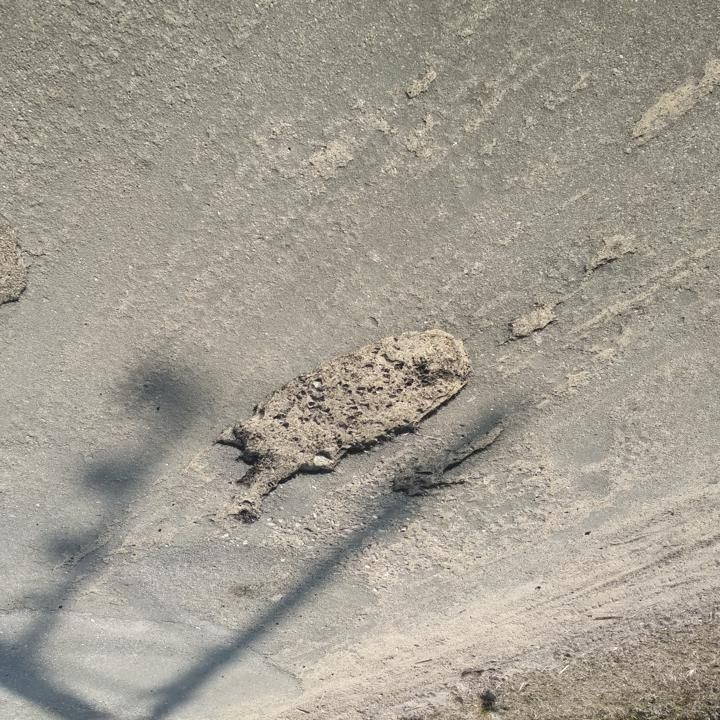pothole: (210, 322, 469, 529), (618, 57, 720, 158), (386, 418, 507, 501), (499, 301, 565, 345), (0, 220, 32, 310)
